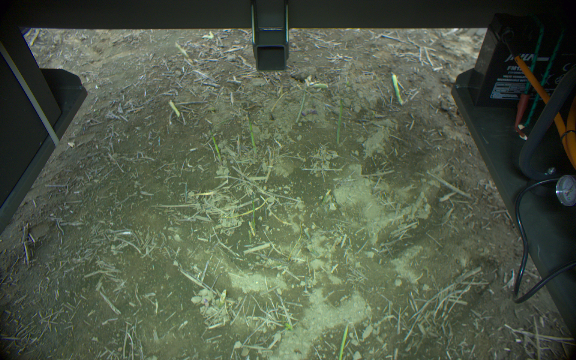aspa: (206, 124, 223, 162), (334, 93, 344, 146), (245, 111, 257, 151), (390, 71, 403, 105)
